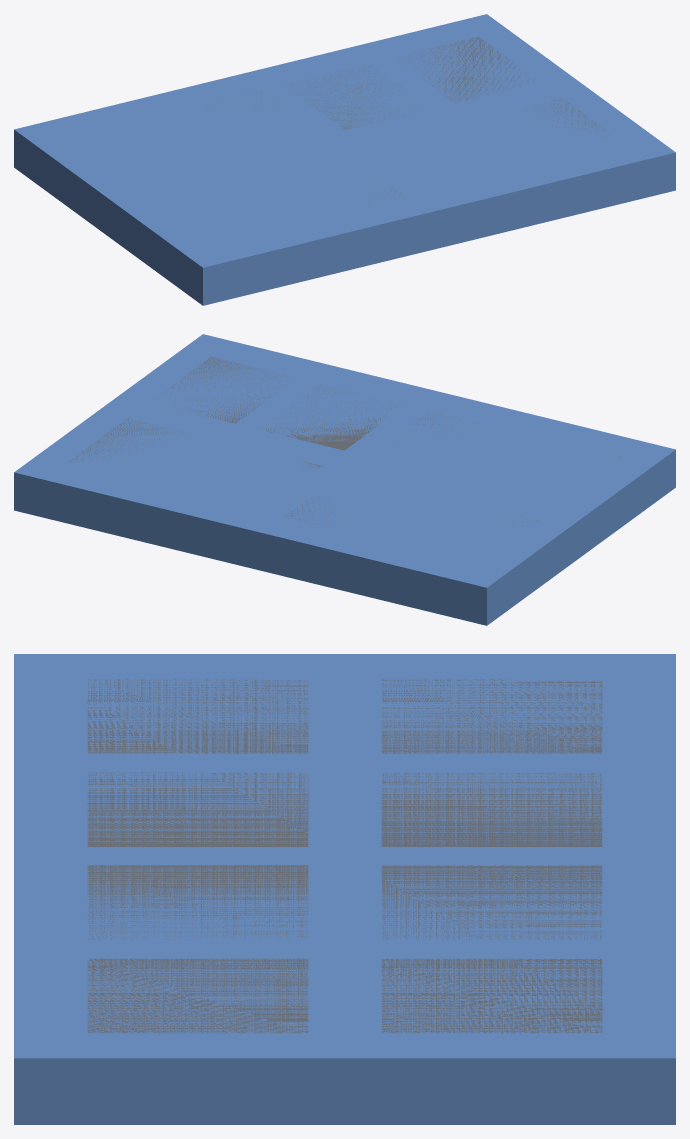
File: tray.glb
The picture shows the model from 3 angles, top to bottom: view 1: azimuth 30°, elevation 25°; view 2: azimuth 150°, elevation 25°; view 3: azimuth 270°, elevation 25°; orthographic projection. The views are drawn at different scales.
Visible parts, largest first — view 1: plate, well8, well7; view 2: plate, well3, well4, well8; view 3: plate, well4, well8, well2, well6, well7, well3, well1, well5.
Part boxes in pixels (box(x1,y1,x2,y2)): plate: box(14, 14, 675, 305); well8: box(402, 36, 535, 103); well7: box(287, 65, 426, 129); plate: box(14, 334, 675, 625); well3: box(261, 384, 405, 450); well4: box(157, 356, 293, 423); well8: box(68, 418, 188, 465); plate: box(14, 654, 675, 1124); well4: box(87, 958, 308, 1033); well8: box(381, 958, 602, 1033); well2: box(87, 772, 308, 846); well6: box(381, 772, 602, 846); well7: box(381, 865, 602, 939); well3: box(87, 865, 308, 939); well1: box(87, 679, 308, 753); well5: box(381, 679, 602, 753).
Bounding box in the file's own units: 0.13 × 0.01 × 0.09.
